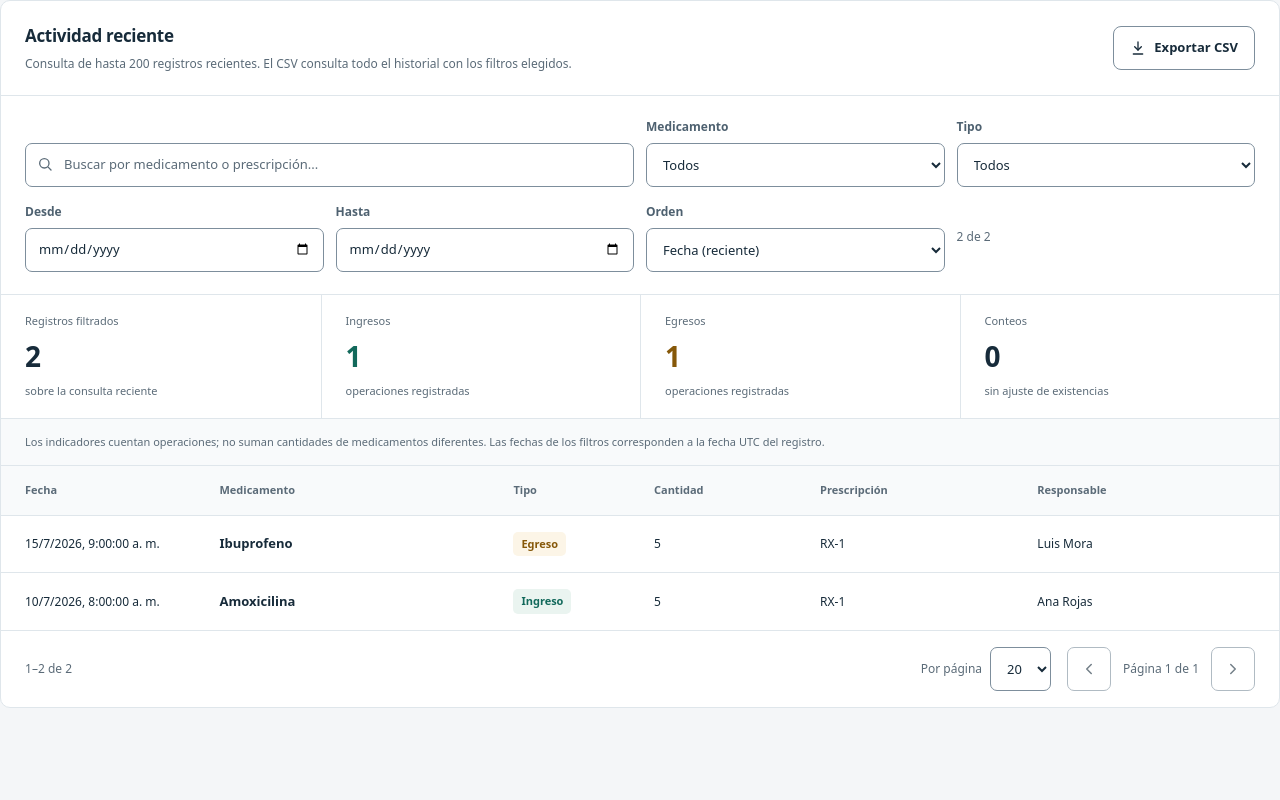
Test case: MovementsTab › filtra por tipo
expect the text "Amoxicilina" is shown: met, box [220,592,296,610]
Step 1. Select "Egresos" in the dropdown named "Filtrar por tipo" → point(1106, 165), box [956,143,1255,187]
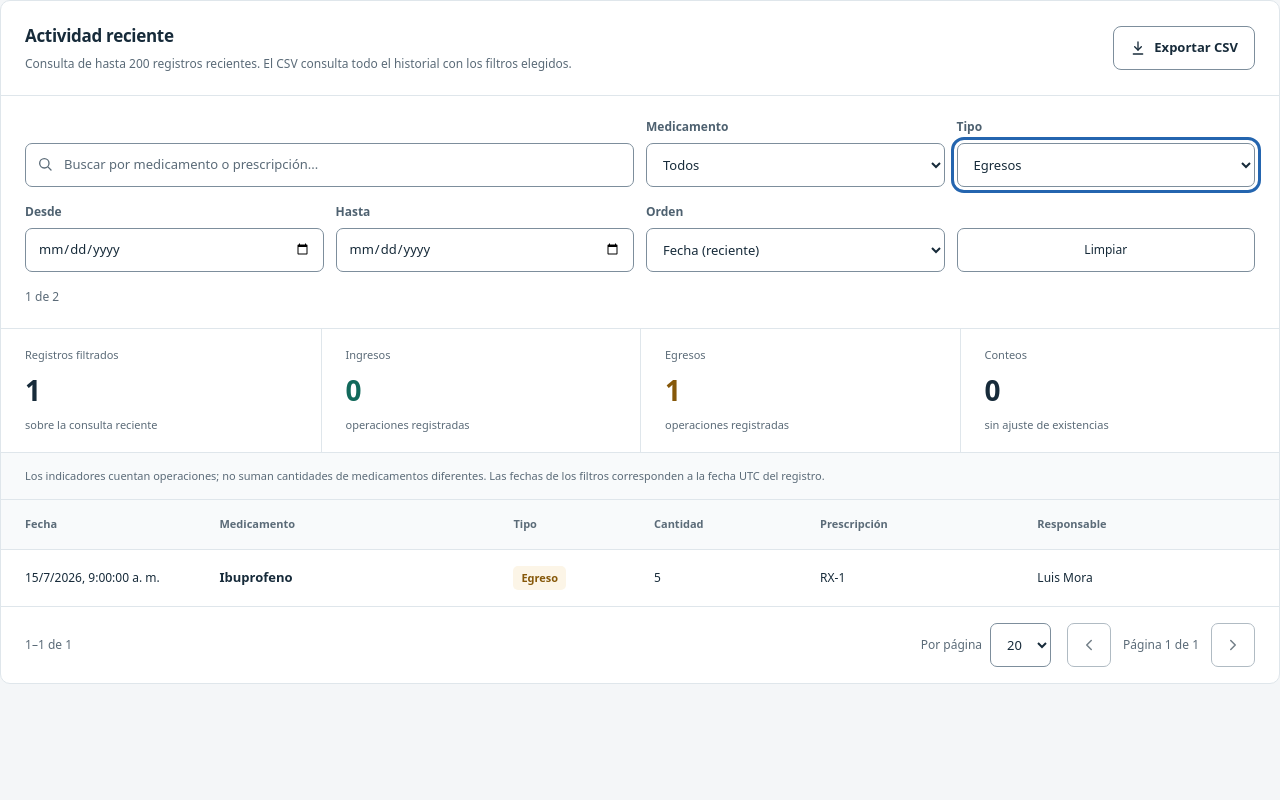
expect the text "Ibuprofeno" is shown: met, box [220,568,293,586]
expect the text "Amoxicilina" is gone: met
